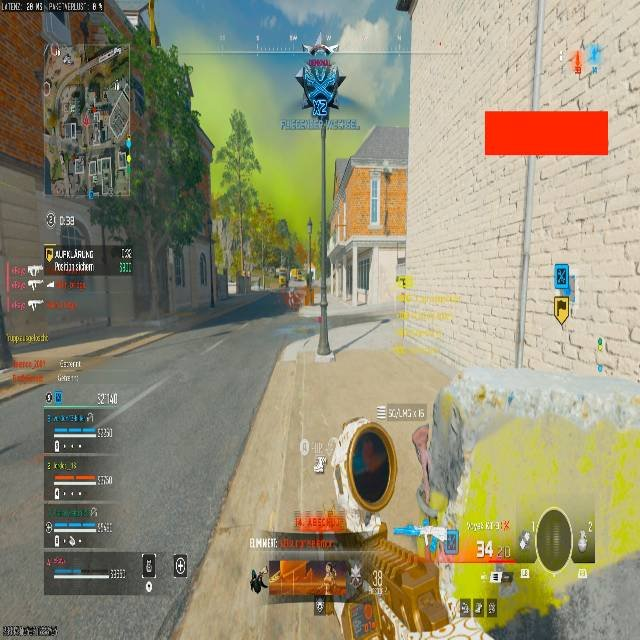head: (308, 44, 331, 56)
player: (294, 44, 345, 123)
